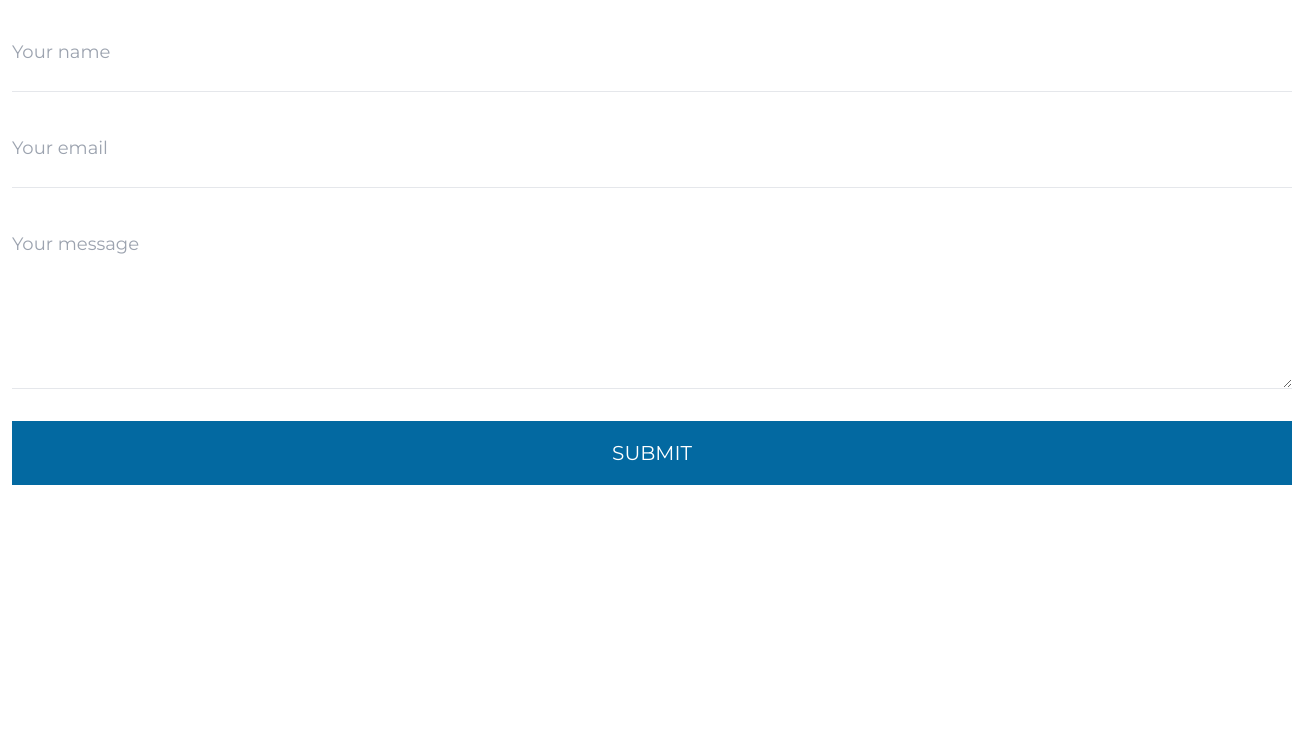
Test: ContactSection › should display min length error when message is invalid
The width and height of the screenshot is (1304, 732).
Type "name" into the field labelled "name" at (652, 52), box 12,12 -> 1292,92
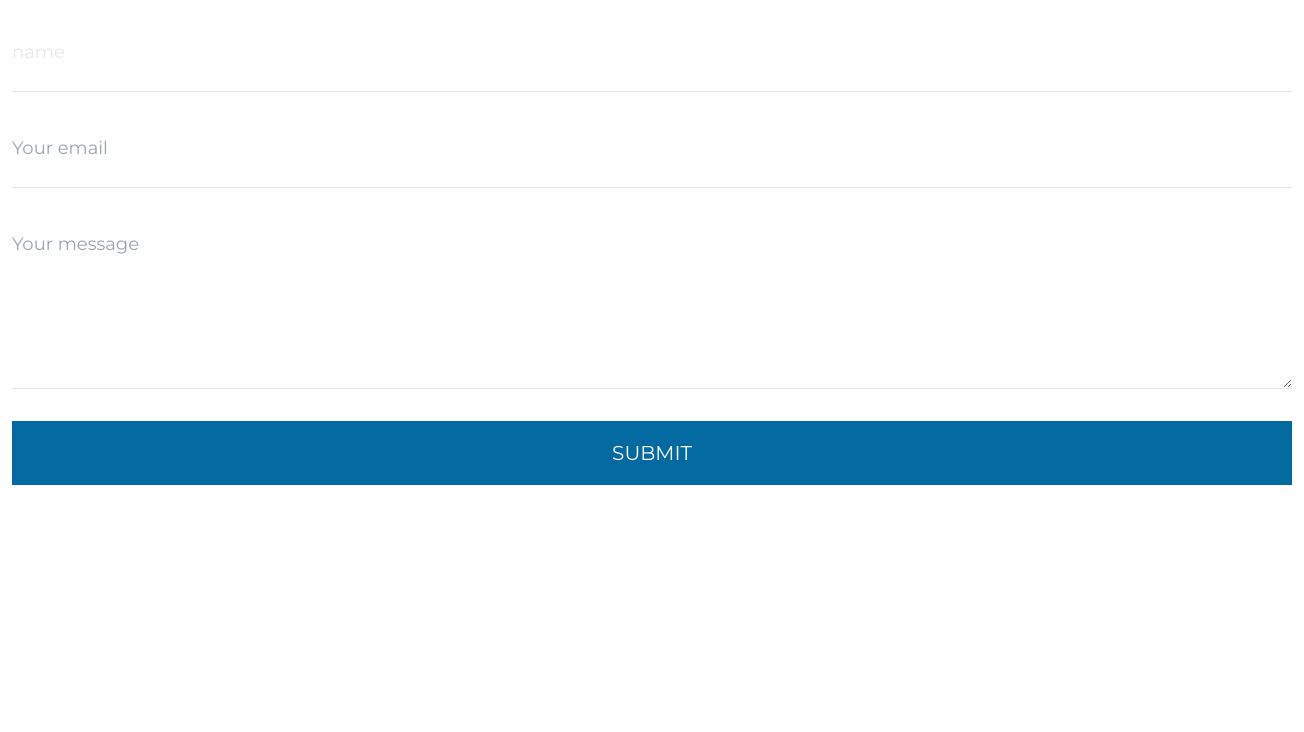
Type "test@mail.com" into the field labelled "email" at (652, 148), box 12,108 -> 1292,188
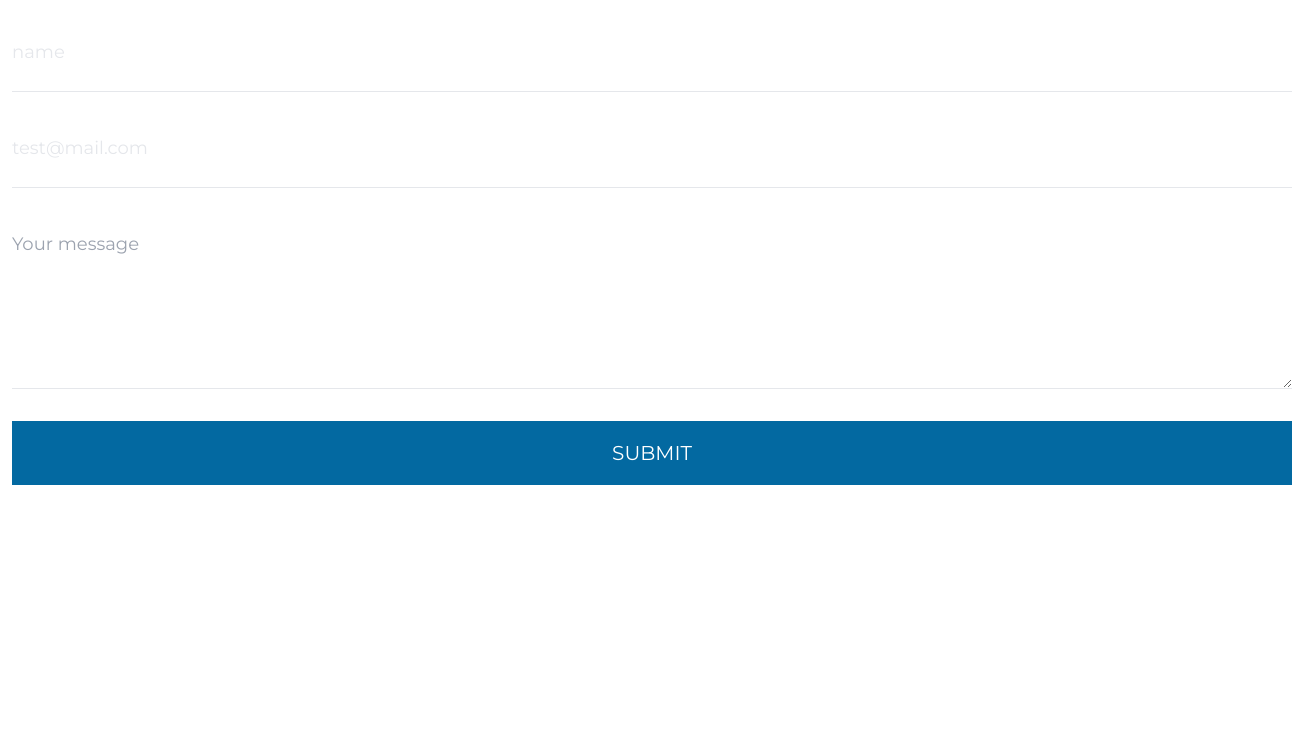
Type "m" into the text box labelled "message" at (652, 308), box 12,228 -> 1292,389
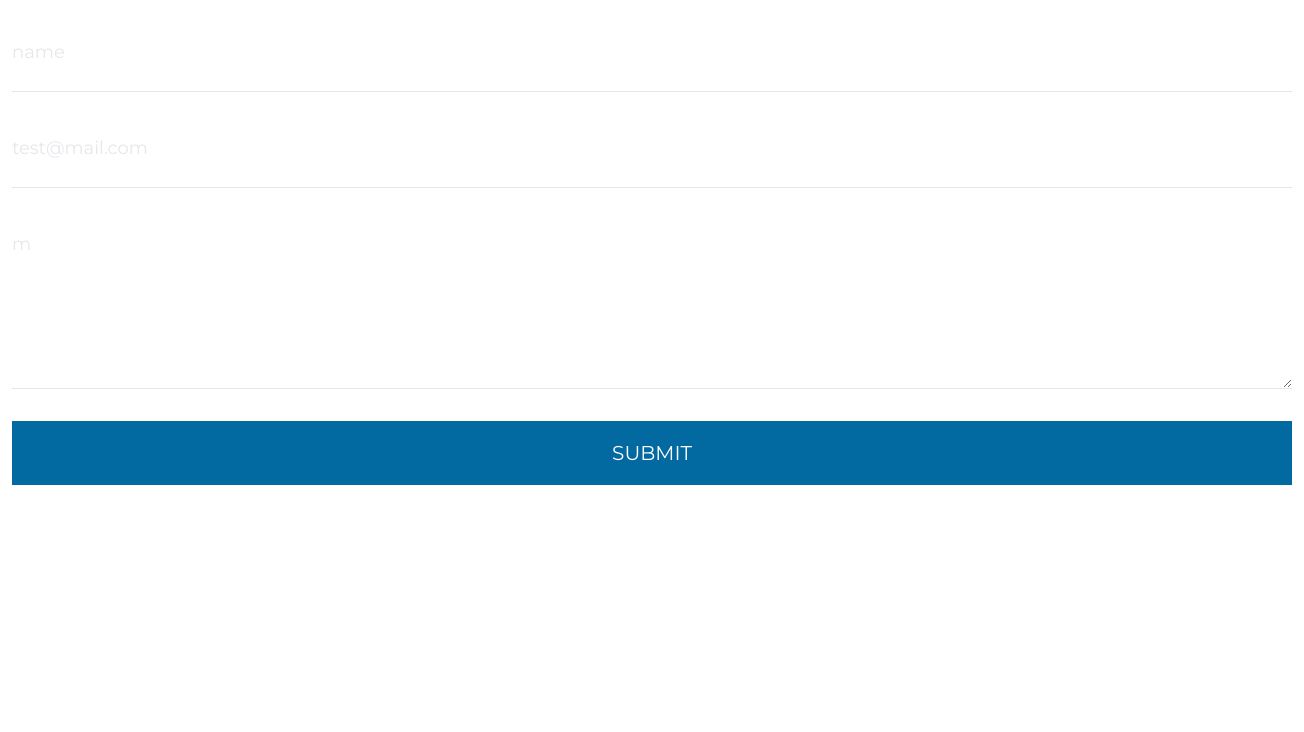
Submit the form from the button, box 12,421 -> 1292,485
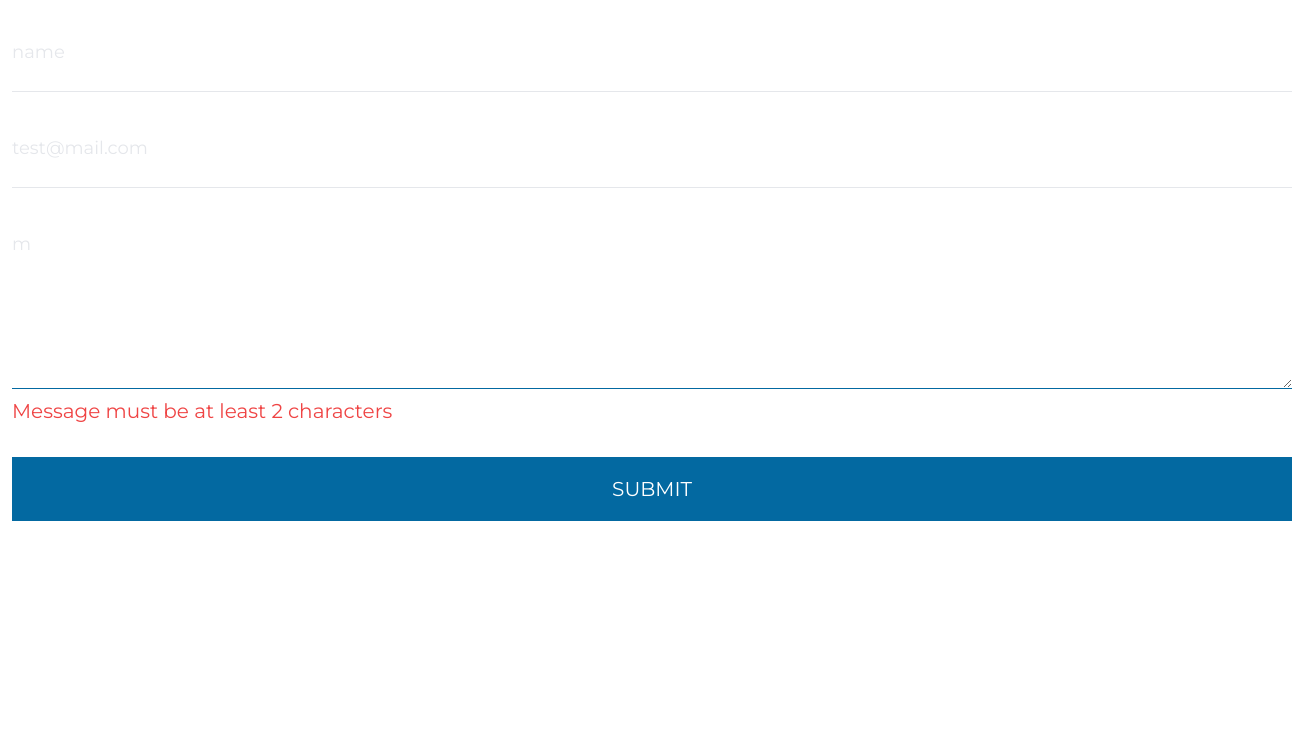
Check: the number of messages is 1, box 12,399 -> 392,423
